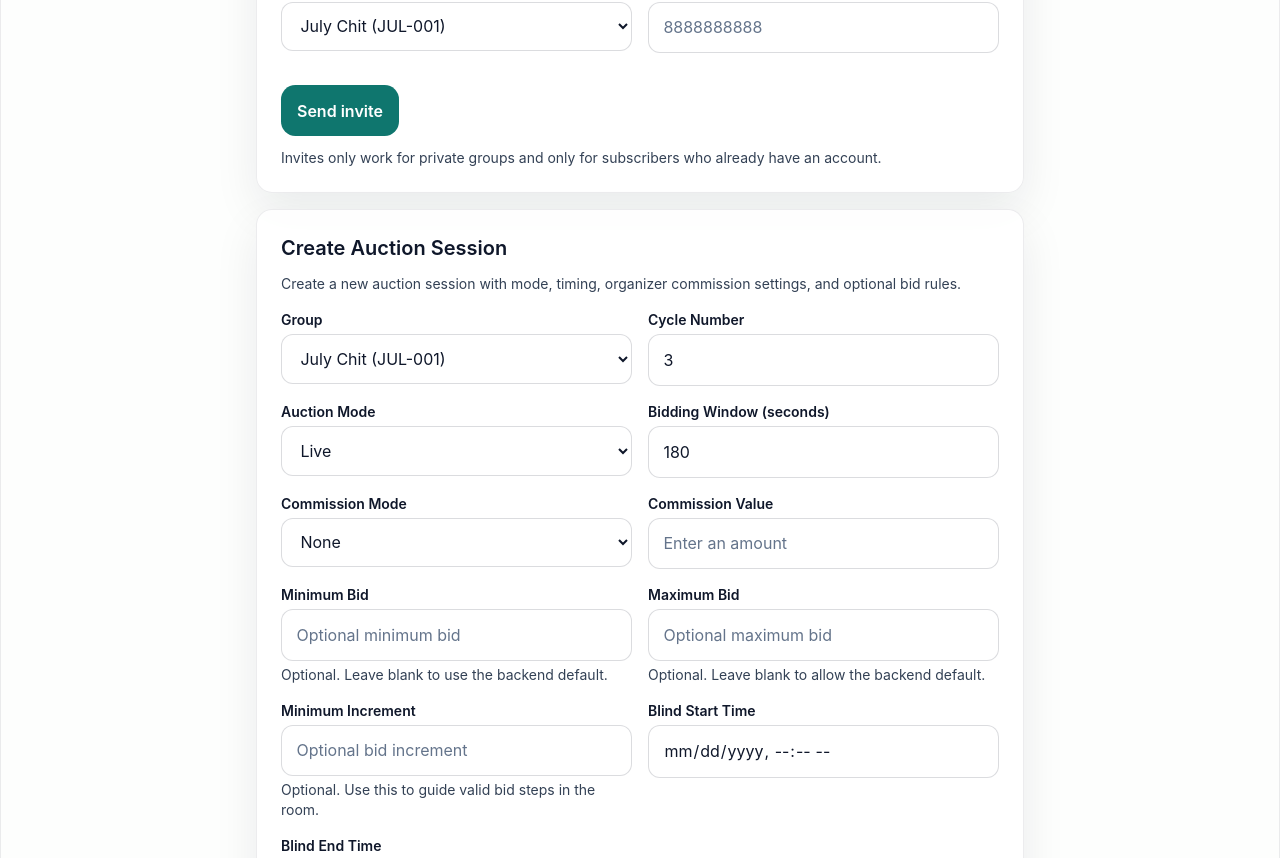
disables bid-rule inputs for fixed auction sessions
This screenshot has width=1280, height=858.
(page scrolled)
Expected: the heading "Create Auction Session" is shown, [281,236,507,260]
Select "Fixed" in the dropdown labelled "Auction Mode". click: (456, 451)
box: [281,426,632,476]
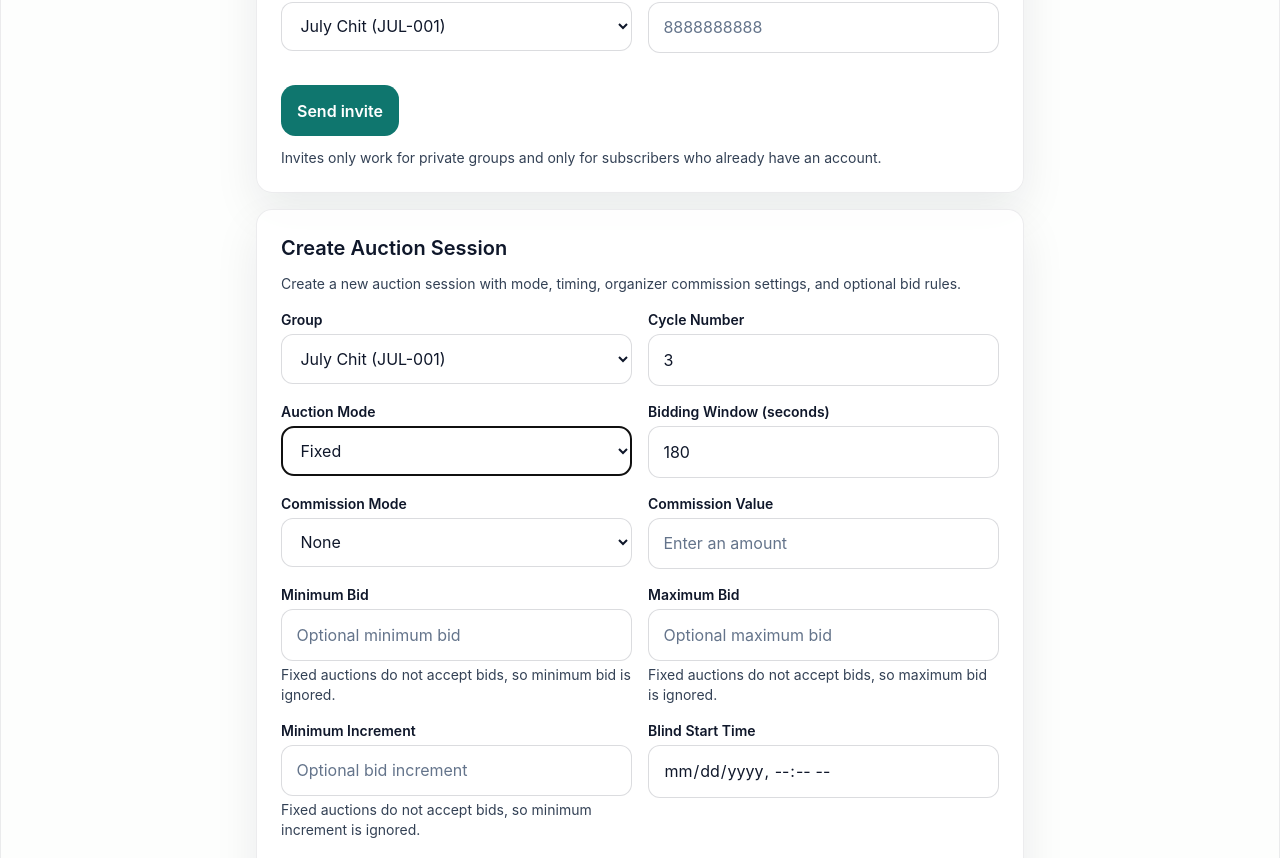
Expected: the number field labelled "Minimum Bid" is disabled, [281,609,632,661]
Expected: the number field labelled "Minimum Increment" is disabled, [281,745,632,796]
